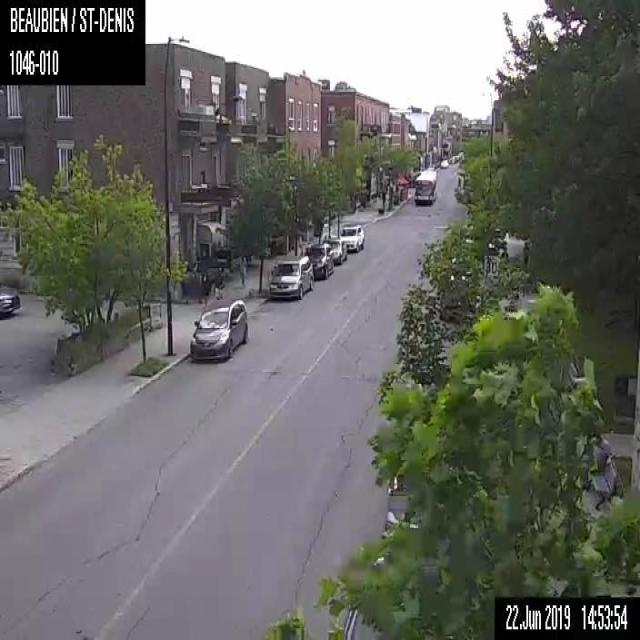bus: (413, 169, 436, 203)
vehicle: (344, 548, 449, 638), (189, 298, 247, 362), (384, 464, 422, 533), (269, 254, 313, 299), (302, 242, 333, 279), (339, 224, 363, 251), (322, 238, 346, 264), (0, 286, 19, 318), (440, 158, 448, 168)
